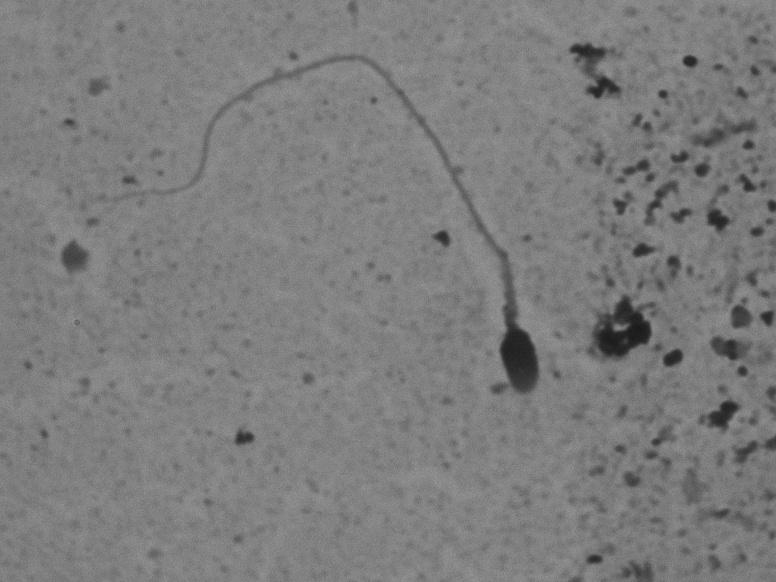Abnormal: (94, 22, 552, 415)
